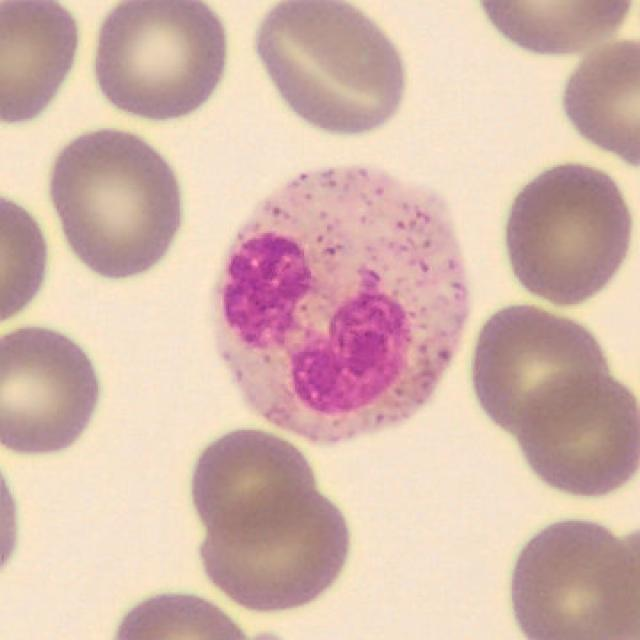Neutrofilo segmentado: (210, 164, 473, 446)
